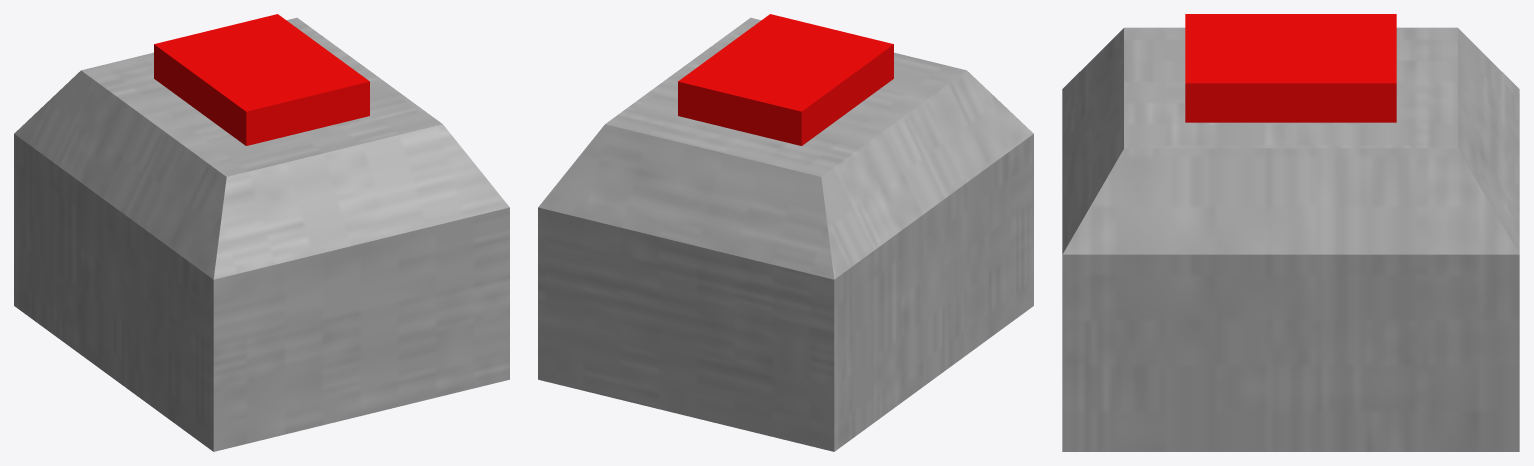
The model's file is BotãoPortasMapa2.dae.
The picture shows the model from 3 angles, left to right: view 1: azimuth 30°, elevation 25°; view 2: azimuth 150°, elevation 25°; view 3: azimuth 270°, elevation 25°; orthographic projection. The views are drawn at different scales.
Visible parts, largest first — view 1: instance_0 (×2); view 2: instance_0 (×2); view 3: instance_0 (×2).
Boxes of the visible parts, x1,y1,x2,y2 form: instance_0 (×2): [14, 14, 509, 451]; instance_0 (×2): [538, 14, 1033, 451]; instance_0 (×2): [1062, 14, 1519, 451].
Size of the model in its own units: 7.09 by 8.27 by 6.4.
Materials: 2 (1 with a texture image).
